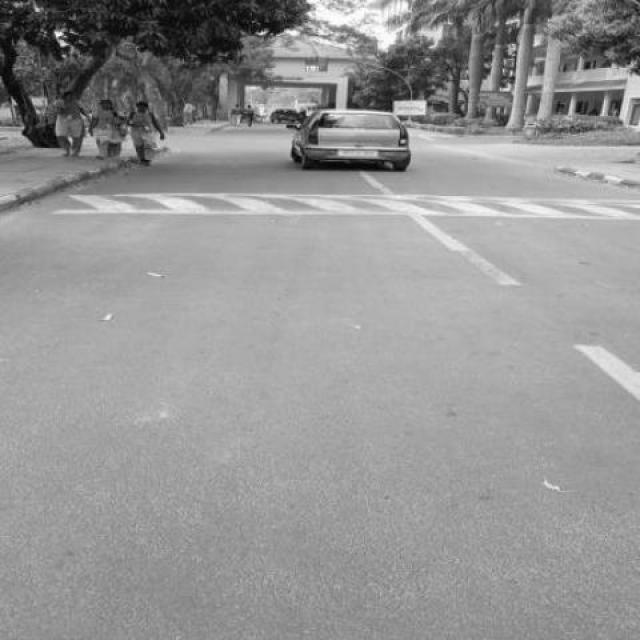Speed Bump: (36, 190, 639, 220)
